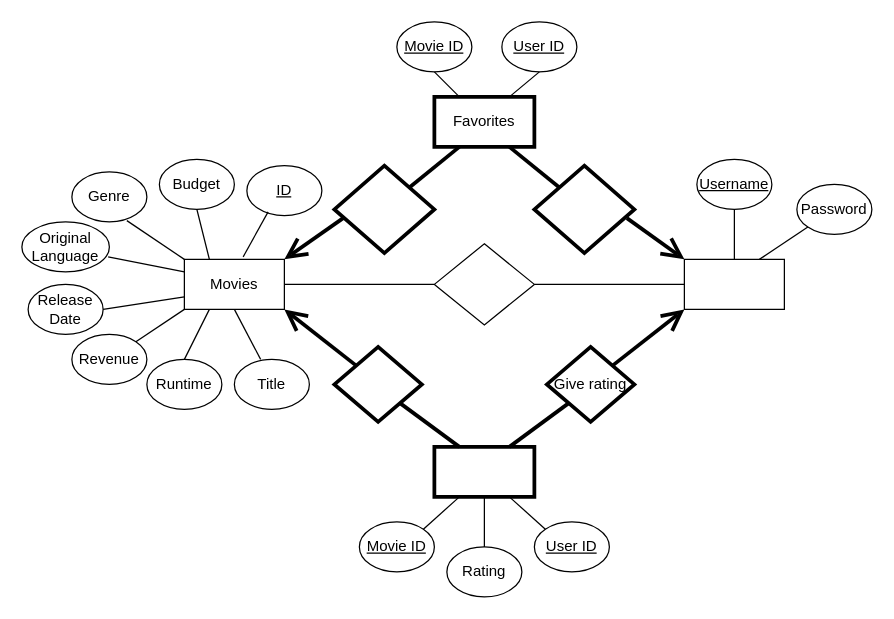
Some shapes in this 894 by 619 pixel diagram are drawn without their labels. Here are the shapes that lost their labels. From the top down, the centre of each, then its label:
At point (384, 208): "Marked as favorite".
At point (584, 208): "Mark as favorite".
At point (483, 283): "Search".
At point (733, 283): "User".
At point (377, 383): "Recieve rating".
At point (484, 471): "Ratings".
